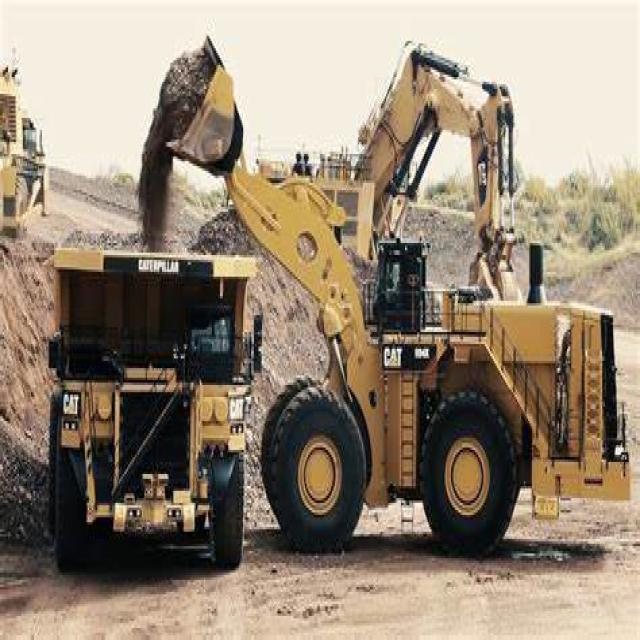buldozerpayloadergrader: (153, 26, 637, 580)
dump_truck: (43, 226, 258, 592)
